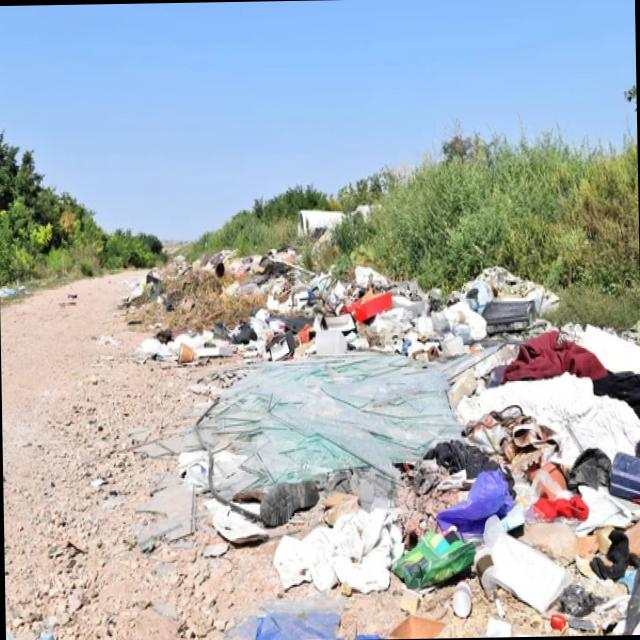garbage: (122, 190, 592, 632)
